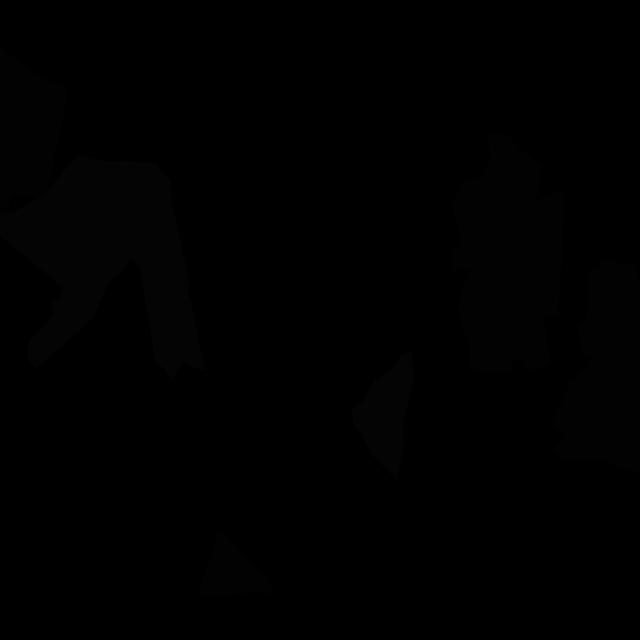cardboard: (449, 134, 565, 374), (551, 339, 640, 474), (0, 46, 68, 214), (578, 258, 640, 365), (198, 531, 276, 597)
soft_plastic: (0, 155, 205, 380), (352, 352, 414, 480)
